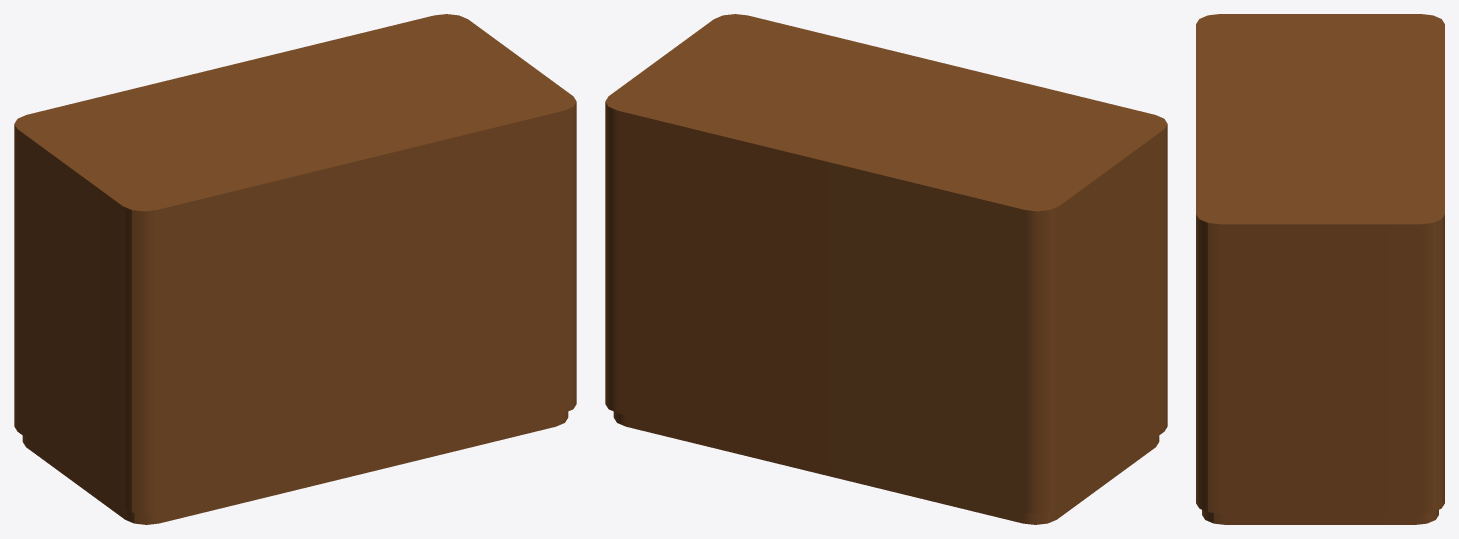
File: counter.fbx
3 renders of one model, left to right at view 1: azimuth 30°, elevation 25°; view 2: azimuth 150°, elevation 25°; view 3: azimuth 270°, elevation 25°, orthographic. The views are drawn at different scales.
Visible parts, largest first — view 1: pCube1; view 2: pCube1; view 3: pCube1.
Part boxes in pixels (x1,y1,x2,y2): pCube1: [14, 14, 576, 524]; pCube1: [605, 14, 1167, 524]; pCube1: [1196, 14, 1444, 524].
Bounding box in the file's own units: 1.68 × 1.13 × 0.84.
